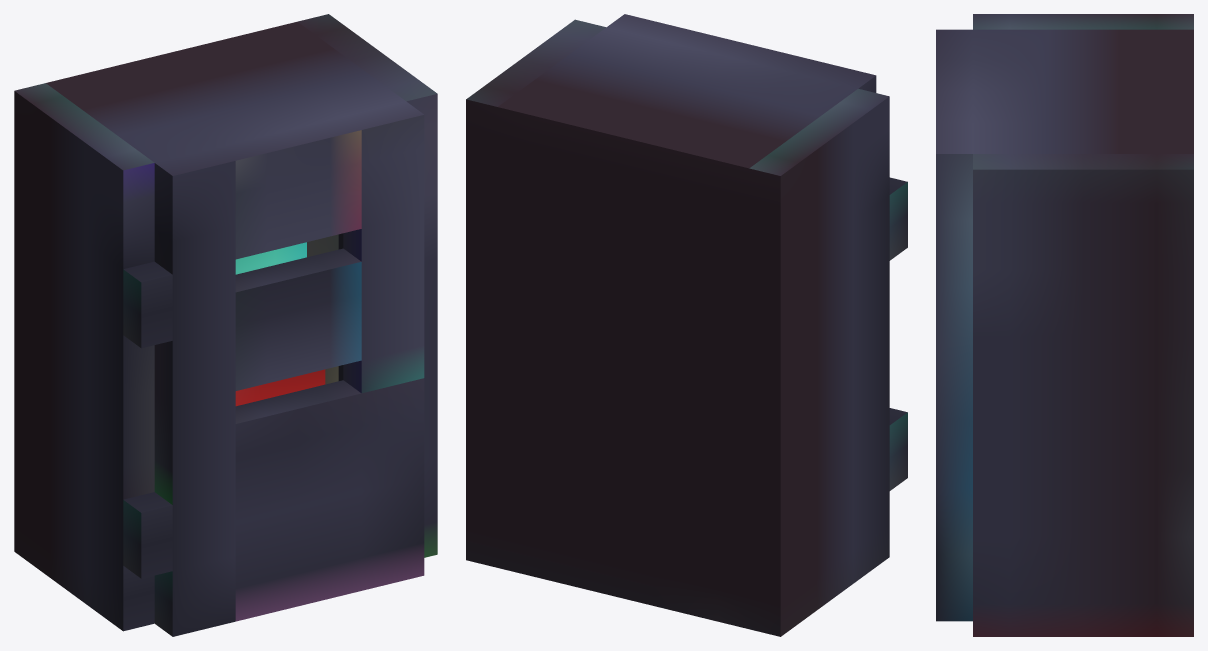
Rendered from FuseBox_A_00.fbx.
The picture shows the model from 3 angles, left to right: view 1: azimuth 30°, elevation 25°; view 2: azimuth 150°, elevation 25°; view 3: azimuth 270°, elevation 25°; orthographic projection.
Visible parts, largest first — view 1: FuseBox_A_00; view 2: FuseBox_A_00; view 3: FuseBox_A_00.
Boxes of the visible parts, x1,y1,x2,y2 form: FuseBox_A_00: (14,14,437,636); FuseBox_A_00: (466,14,907,636); FuseBox_A_00: (936,14,1193,636).
Size of the model in its own units: 50 by 70 by 35.
